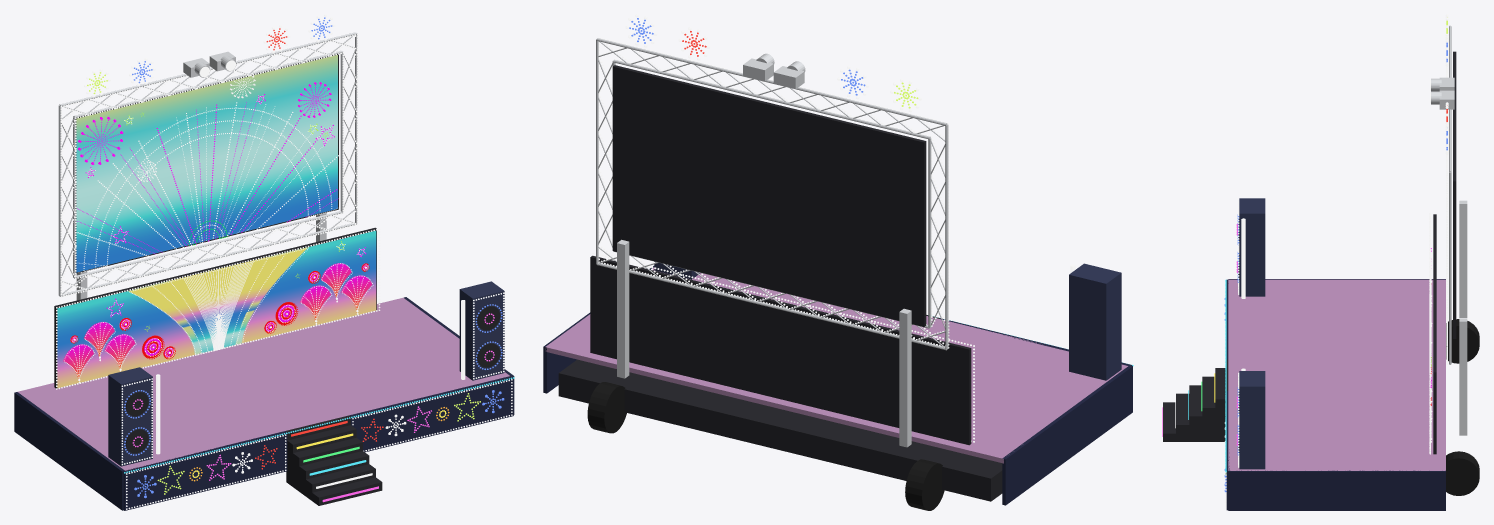
The model's file is float.glb.
3 renders of one model, left to right at view 1: azimuth 30°, elevation 25°; view 2: azimuth 150°, elevation 25°; view 3: azimuth 270°, elevation 25°, orthographic. The views are drawn at different scales.
Visible parts, largest first — view 1: 上方大看板_圖稿, 舞台地板, 下層背板_圖稿, LED點燈_white, 前裙板_左, LED點燈_圖稿_#ffffff, 前裙板_右, 側裙板_左, 音箱塔_左, 音箱塔_右, LED霓虹燈條_#ffffff, LED點燈_圖稿_#ff00ff (+15 smaller); view 2: 上方大看板_圖稿_背框, 下層背板_圖稿_背框, 舞台地板, 貨車底盤, 側裙板_左, 音箱塔_左, LED點燈_white, 看板立柱_-1, 看板立柱_1, 輪胎_1_1.6, 輪胎_-1_1.6, 桁架外管_0 (+6 smaller); view 3: 舞台地板, 側裙板_右, 音箱塔_右, 音箱塔_左, LED點燈_white, 輪胎_1_1.6, 上方大看板_圖稿_背框, 看板立柱_1, 看板立柱_-1, 下層背板_圖稿_背框, 樓梯_2, 輪胎_-1_1.6 (+7 smaller).
Boxes of the visible parts, left/top/right/bottom form: 上方大看板_圖稿: left=76, top=55, right=337, bottom=272; 舞台地板: left=17, top=297, right=509, bottom=470; 下層背板_圖稿: left=57, top=230, right=376, bottom=388; LED點燈_white: left=56, top=14, right=512, bottom=509; 前裙板_左: left=123, top=431, right=287, bottom=510; LED點燈_圖稿_#ffffff: left=64, top=76, right=373, bottom=383; 前裙板_右: left=349, top=375, right=513, bottom=452; 側裙板_左: left=14, top=392, right=124, bottom=510; 音箱塔_左: left=108, top=367, right=152, bottom=466; 音箱塔_右: left=459, top=281, right=504, bottom=380; LED霓虹燈條_#ffffff: left=183, top=261, right=253, bottom=350; LED點燈_圖稿_#ff00ff: left=77, top=82, right=366, bottom=316; 上方大看板_圖稿_背框: left=612, top=65, right=926, bottom=326; 下層背板_圖稿_背框: left=590, top=255, right=971, bottom=445; 舞台地板: left=545, top=267, right=1127, bottom=463; 貨車底盤: left=558, top=359, right=1002, bottom=501; 側裙板_左: left=1002, top=366, right=1132, bottom=505; 音箱塔_左: left=1069, top=263, right=1121, bottom=380; LED點燈_white: left=592, top=14, right=974, bottom=442; 看板立柱_-1: left=899, top=308, right=911, bottom=447; 看板立柱_1: left=617, top=239, right=629, bottom=378; 輪胎_1_1.6: left=587, top=382, right=626, bottom=433; 輪胎_-1_1.6: left=905, top=459, right=944, bottom=510; 桁架外管_0: left=596, top=263, right=946, bottom=350; 舞台地板: left=1228, top=279, right=1445, bottom=470; 側裙板_右: left=1228, top=470, right=1445, bottom=510; 音箱塔_右: left=1239, top=371, right=1265, bottom=469; 音箱塔_左: left=1239, top=198, right=1265, bottom=296; LED點燈_white: left=1224, top=14, right=1448, bottom=508; 輪胎_1_1.6: left=1446, top=451, right=1479, bottom=495; 上方大看板_圖稿_背框: left=1453, top=51, right=1456, bottom=338; 看板立柱_1: left=1459, top=318, right=1467, bottom=435; 看板立柱_-1: left=1459, top=200, right=1467, bottom=317; 下層背板_圖稿_背框: left=1433, top=214, right=1436, bottom=454; 樓梯_2: left=1202, top=376, right=1215, bottom=441; 輪胎_-1_1.6: left=1446, top=319, right=1479, bottom=363.
Size of what is drawn, in the model's own units: 10.48 by 9.02 by 7.3.
26 materials, 2 textured.
